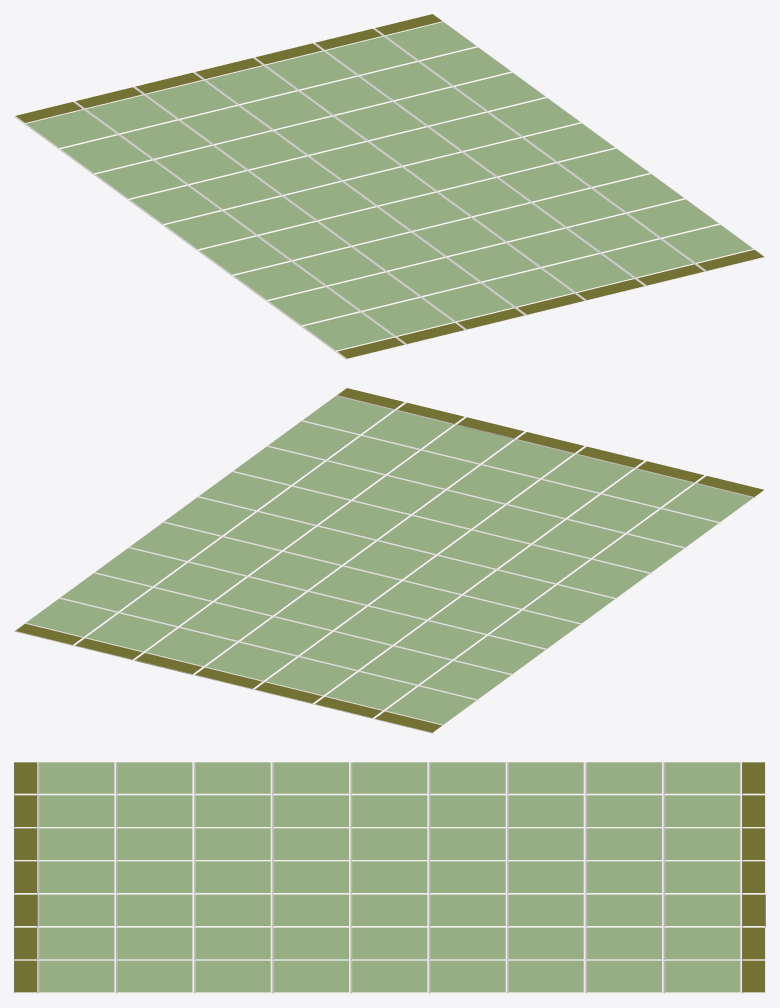
The model's file is Tile_8.fbx.
3 views of the same model, one above another, from view 1: azimuth 30°, elevation 25°; view 2: azimuth 150°, elevation 25°; view 3: azimuth 270°, elevation 25° (orthographic). The views are drawn at different scales.
Visible parts, largest first — view 1: Tile_8; view 2: Tile_8; view 3: Tile_8.
Boxes of the visible parts, x1,y1,x2,y2 form: Tile_8: [14, 14, 765, 359]; Tile_8: [14, 388, 765, 733]; Tile_8: [14, 762, 765, 993].
Bounding box in the file's own units: 153 × 210 × 0.2414.
